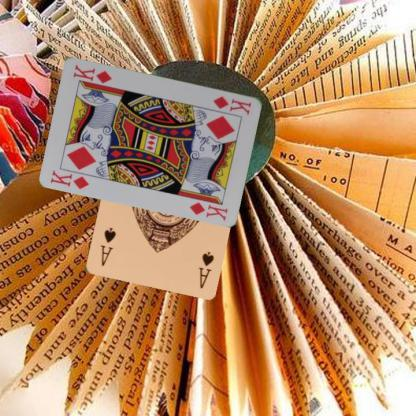As: (196, 249, 215, 290)
Kd: (48, 167, 90, 191), (211, 93, 252, 116)
